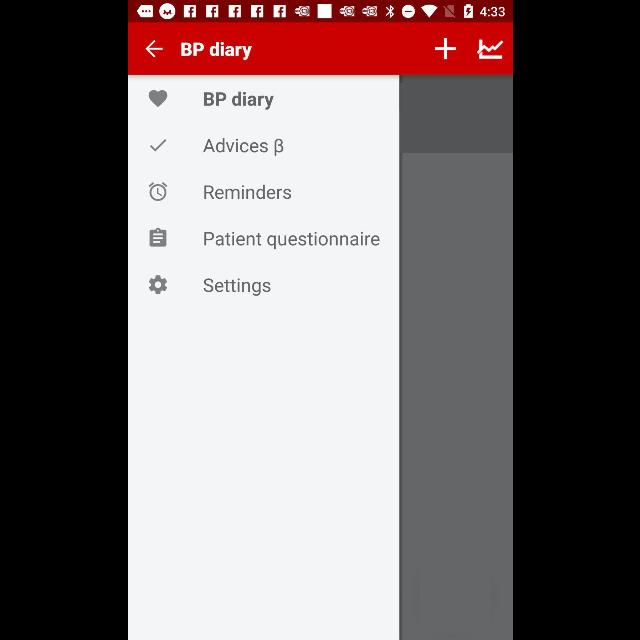icon: (476, 39, 502, 60), (434, 38, 456, 60), (148, 182, 166, 202), (144, 40, 162, 58), (148, 90, 166, 108), (149, 228, 167, 246), (148, 276, 166, 294), (150, 140, 167, 152)
panel: (128, 75, 398, 639)
text: (203, 232, 379, 250), (200, 90, 284, 112), (202, 138, 282, 156), (203, 184, 291, 200), (180, 41, 252, 60), (202, 278, 270, 296)
toolbar: (128, 23, 512, 75)
uppertaskbar: (128, 1, 512, 23)
